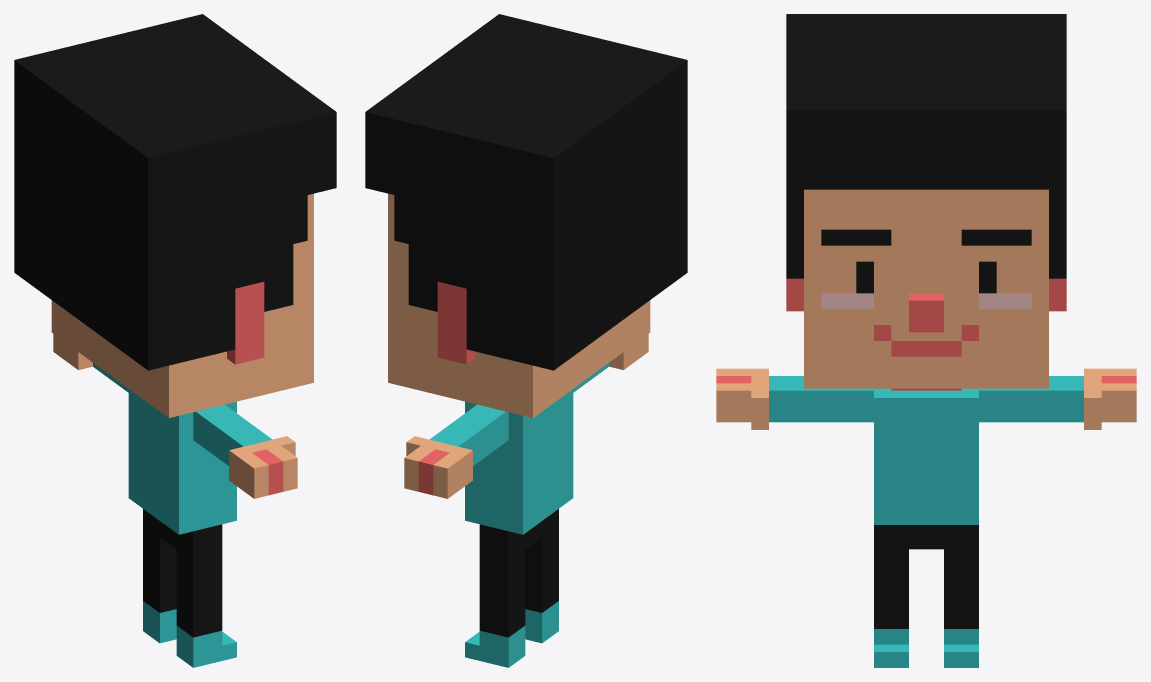
Rendered from Voxel Universe-59.obj.
3 views of the same model, side by side, from view 1: azimuth 30°, elevation 25°; view 2: azimuth 150°, elevation 25°; view 3: azimuth 270°, elevation 25° (orthographic). The views are drawn at different scales.
Size of the model in its own units: 1.3 by 3.7 by 2.4.
Materials: 1 (1 with a texture image).
